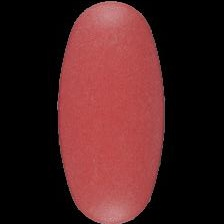53808-1080: (0, 0, 224, 224)
